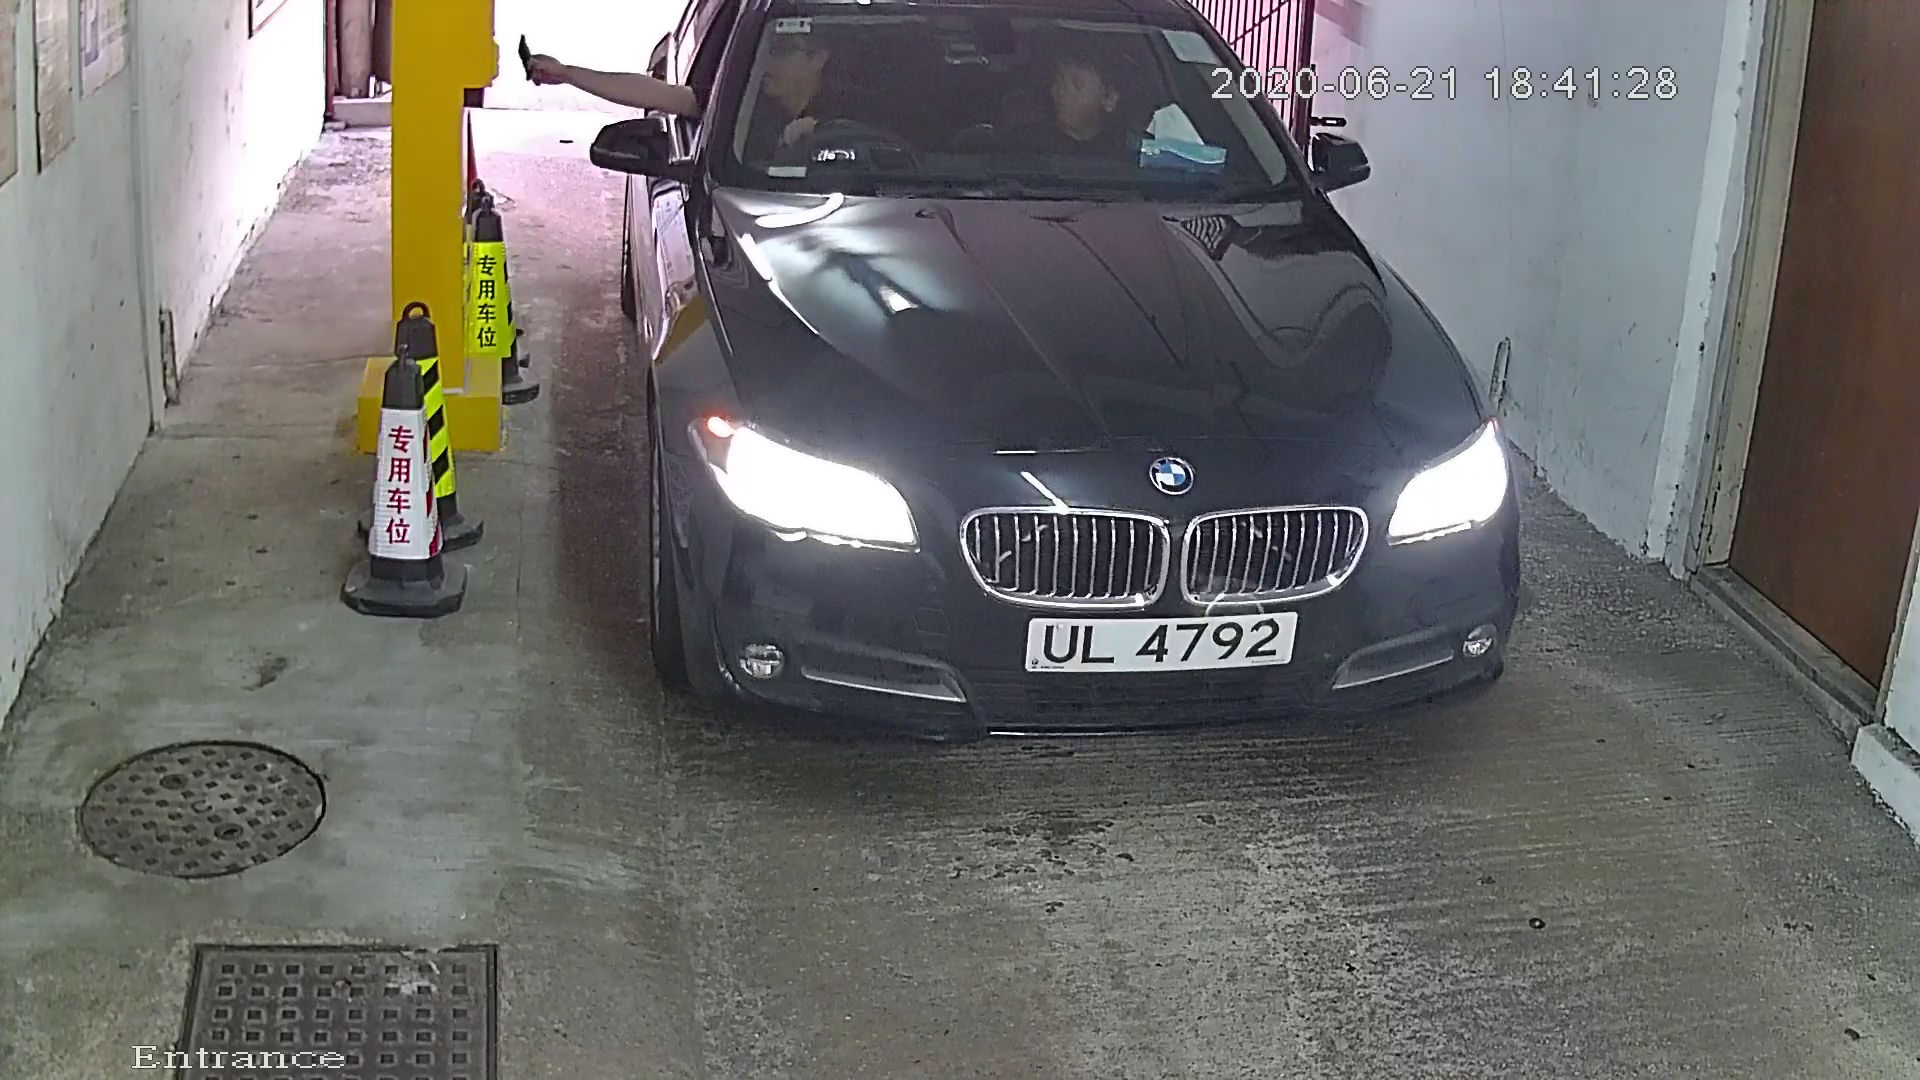privatecar: (556, 1, 1594, 796)
